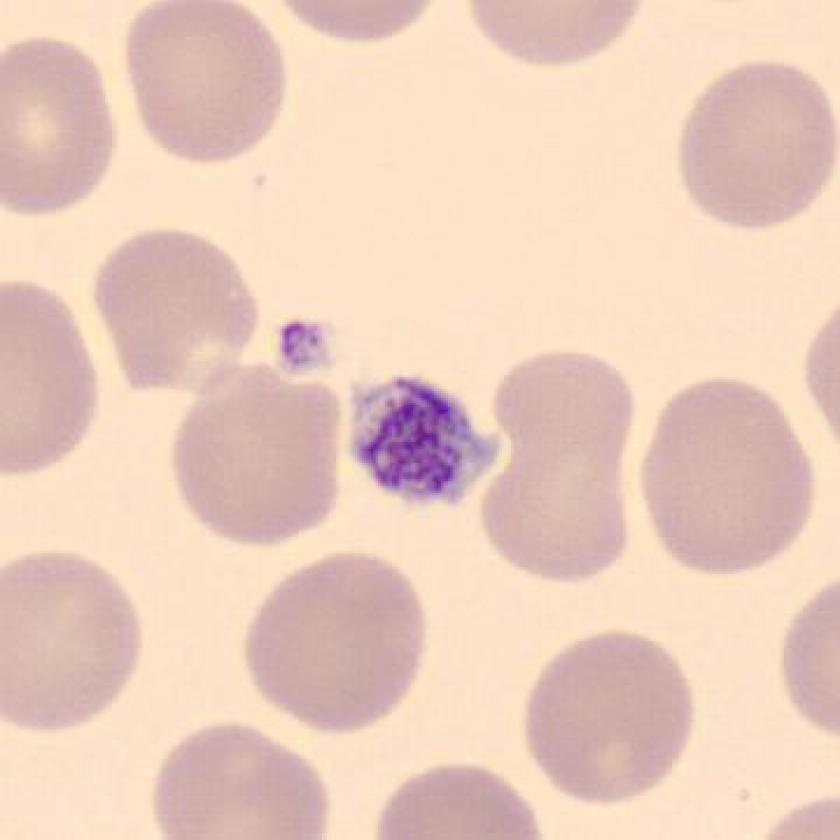platelets: (339, 369, 505, 515), (274, 304, 337, 385)
